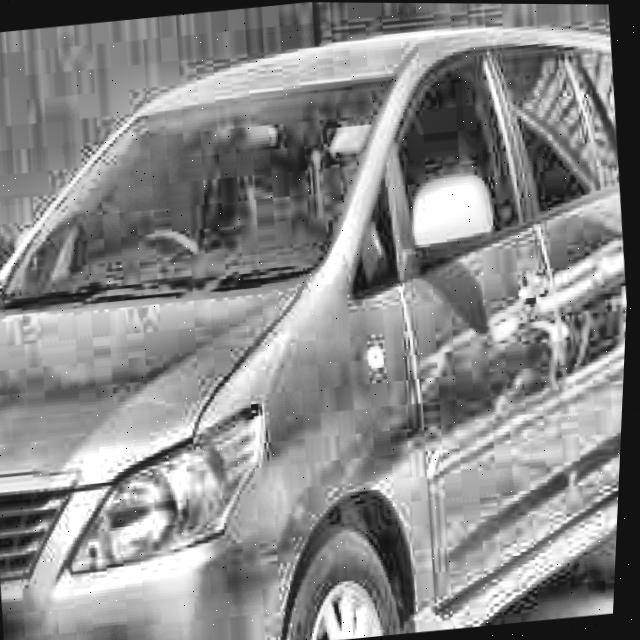light_vehicle: (0, 4, 640, 640)
